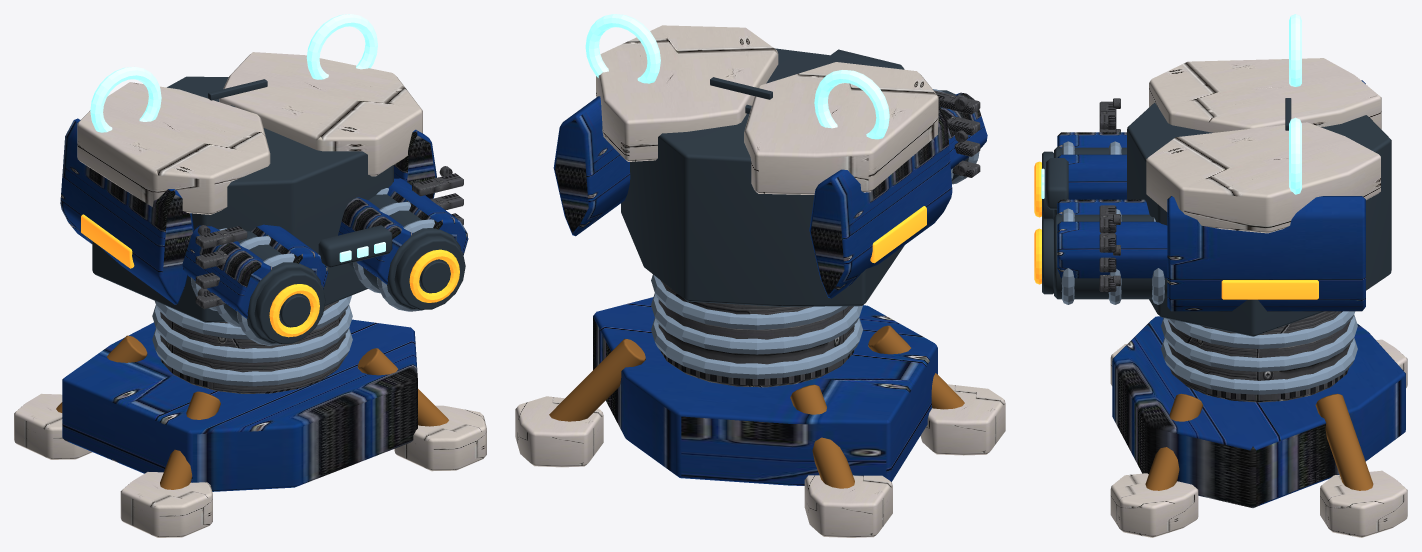
File: patrol_3.glb
3 renders of one model, left to right at view 1: azimuth 30°, elevation 25°; view 2: azimuth 150°, elevation 25°; view 3: azimuth 270°, elevation 25°, orthographic. The views are drawn at different scales.
Parts seen in each view (by area): view 1: Turret hex anchor, Splayed planted foot, Sloped rotating gun mantle, Turntable bearing, Rotating actuator, Patrol halo, Anchoring hydraulic, Muzzle lens ring; view 2: Turret hex anchor, Splayed planted foot, Sloped rotating gun mantle, Turntable bearing, Rotating actuator, Anchoring hydraulic, Patrol halo, Muzzle lens ring; view 3: Turret hex anchor, Splayed planted foot, Sloped rotating gun mantle, Turntable bearing, Rotating actuator, Anchoring hydraulic, Muzzle lens ring, Patrol halo.
Part boxes in pixels (box(x1,y1,x2,y2)): Turret hex anchor: box(60, 118, 468, 491); Splayed planted foot: box(14, 52, 486, 537); Sloped rotating gun mantle: box(92, 76, 465, 343); Turntable bearing: box(152, 188, 434, 386); Rotating actuator: box(160, 166, 463, 393); Patrol halo: box(90, 14, 385, 262); Anchoring hydraulic: box(56, 335, 448, 489); Muzzle lens ring: box(81, 214, 459, 337); Turret hex anchor: box(553, 92, 987, 485); Splayed planted foot: box(515, 25, 1005, 537); Sloped rotating gun mantle: box(621, 48, 968, 306); Turntable bearing: box(651, 89, 979, 379); Rotating actuator: box(658, 90, 980, 387); Anchoring hydraulic: box(549, 325, 964, 488); Patrol halo: box(585, 14, 889, 139); Muzzle lens ring: box(870, 206, 926, 263); Turret hex anchor: box(1057, 80, 1405, 507); Splayed planted foot: box(1110, 58, 1407, 537); Sloped rotating gun mantle: box(1042, 98, 1391, 336); Turntable bearing: box(1061, 141, 1357, 394); Rotating actuator: box(1099, 98, 1350, 402); Anchoring hydraulic: box(1145, 393, 1373, 490); Muzzle lens ring: box(1034, 161, 1318, 299); Patrol halo: box(1041, 14, 1301, 198).
Size of the model in its own units: 1.1 by 1.18 by 1.03.
Materials: 8 (3 with a texture image).
